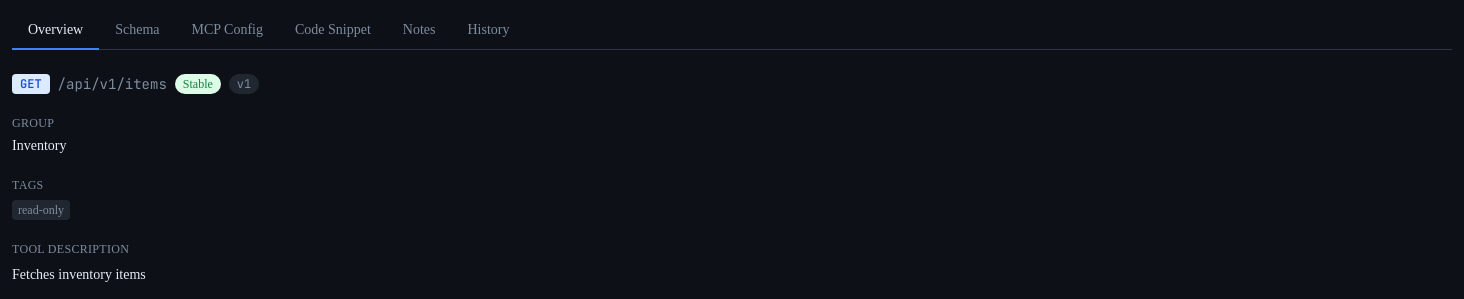
Test: ApiDetailTabs › shows copy button on Code Snippet tab
Click the tab "Code Snippet". click: [333, 31]
box: left=279, top=12, right=387, bottom=50
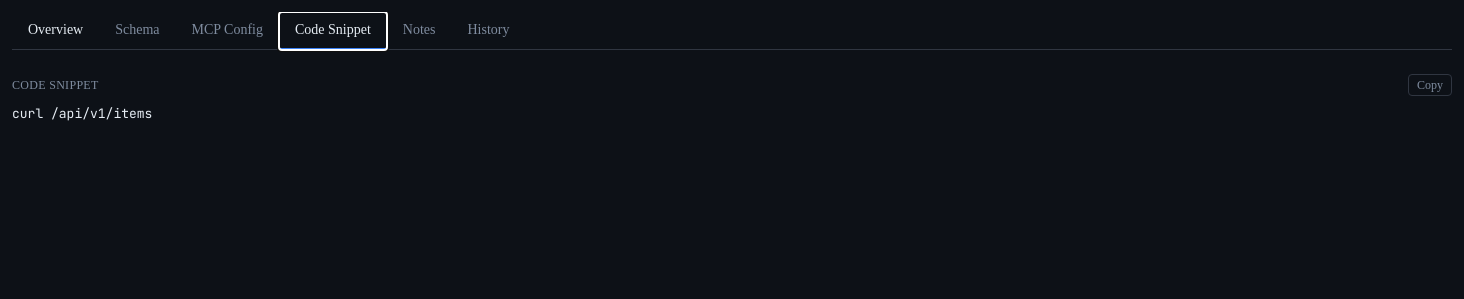
Expected: the button "Copy" is shown, left=1408, top=74, right=1452, bottom=96
